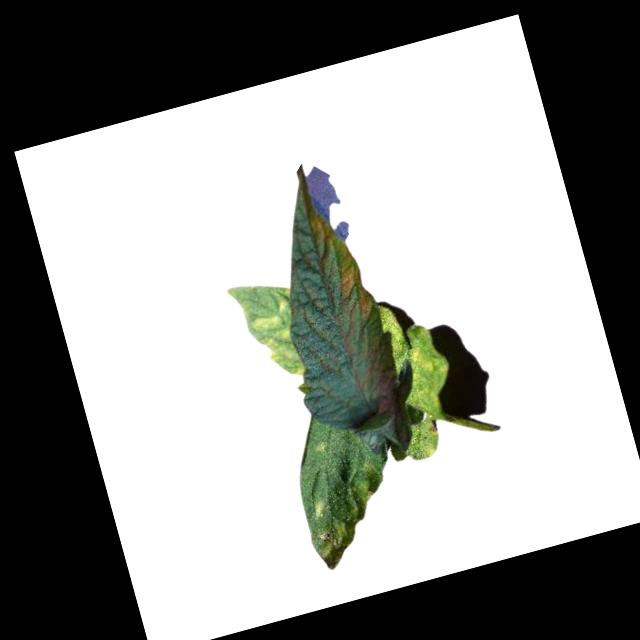Leaf_Mold: (295, 460, 400, 573), (375, 294, 460, 423), (243, 287, 310, 385), (326, 252, 374, 324), (304, 208, 334, 250)
